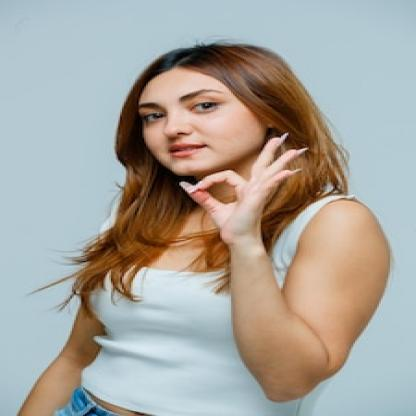ok: (175, 130, 313, 235)
